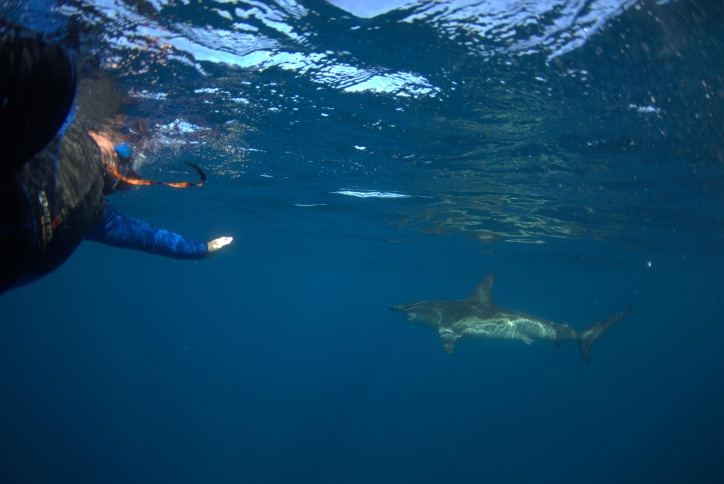Hammer: (367, 249, 647, 388)
